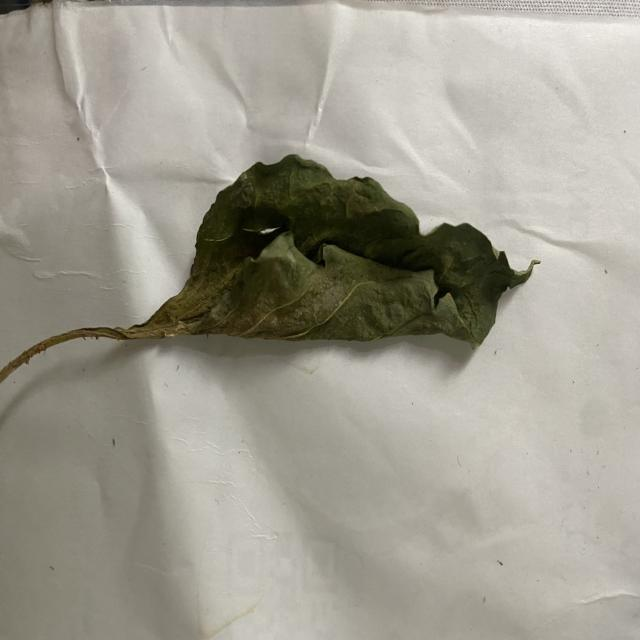Leaf: (147, 152, 538, 350)
